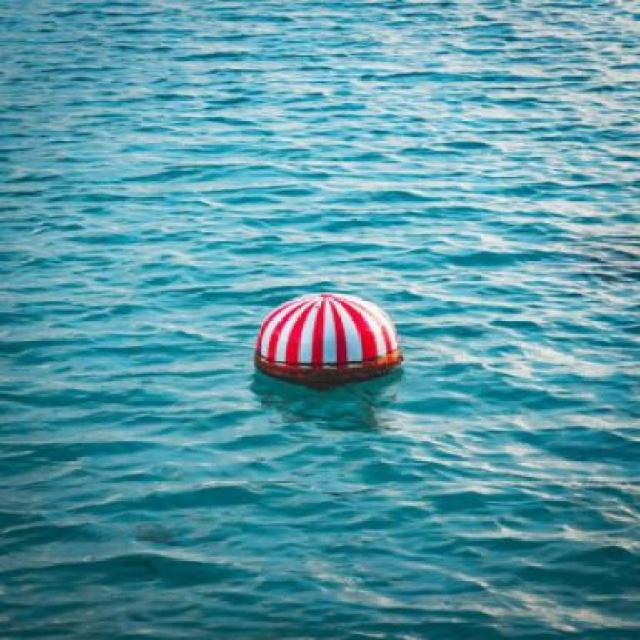a: (236, 281, 417, 392)
